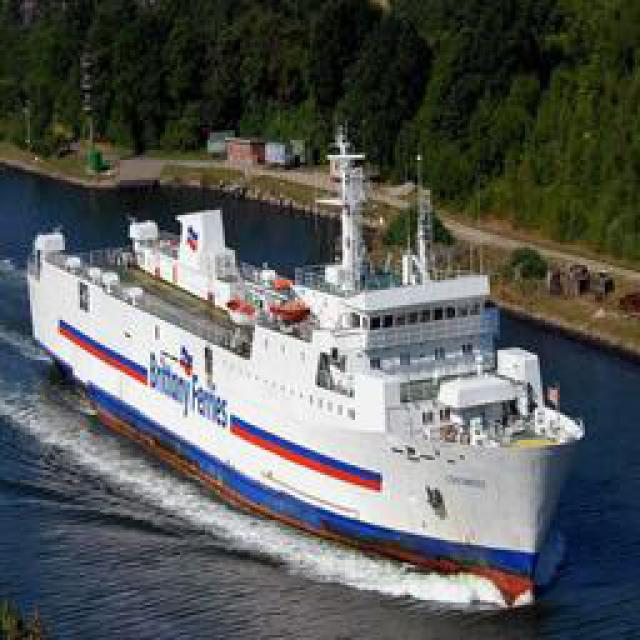Ship: (28, 192, 593, 615)
